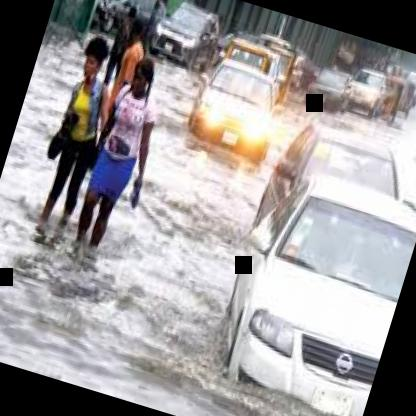car: (190, 149, 416, 416), (256, 106, 416, 278), (170, 31, 304, 184), (147, 0, 238, 79), (292, 47, 364, 125), (329, 46, 397, 122)
